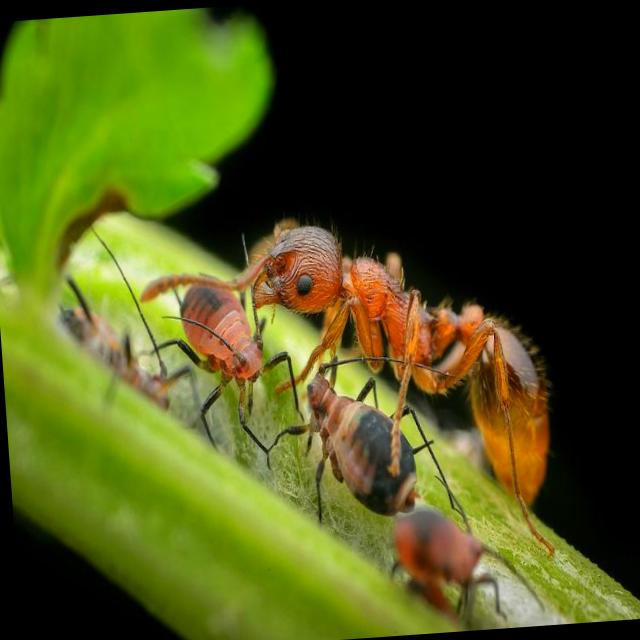Aphids: (269, 347, 465, 556), (164, 266, 294, 448)
